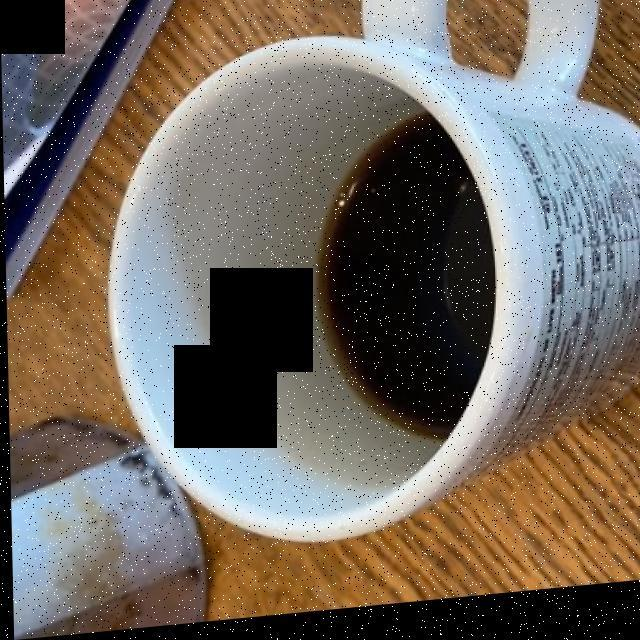coffee: (315, 123, 483, 462)
